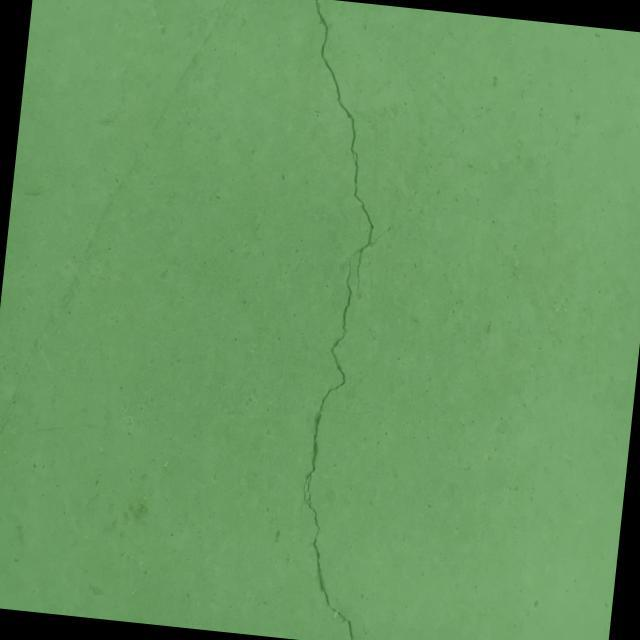crack: (247, 0, 420, 640)
